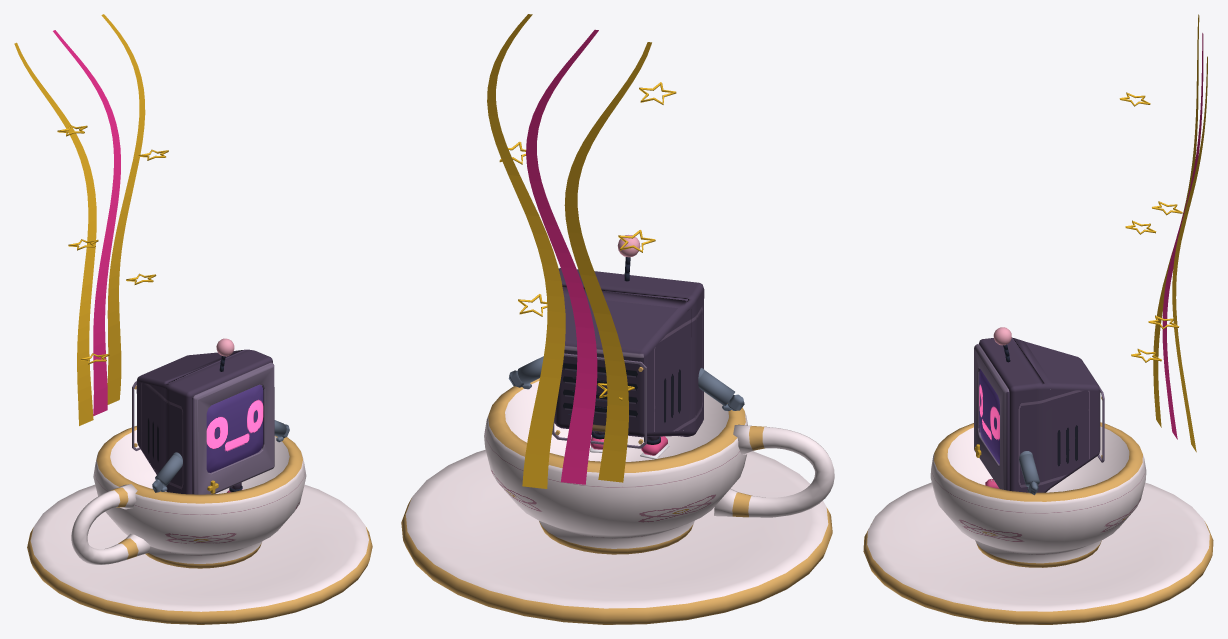
Rendered from prime.trail.podium.glb.
3 renders of one model, left to right at view 1: azimuth 30°, elevation 25°; view 2: azimuth 150°, elevation 25°; view 3: azimuth 270°, elevation 25°, orthographic. The views are drawn at different scales.
Visible parts, largest first — view 1: emi_teacup_mesh, podium_ribbon_2, podium_ribbon_1, podium_ribbon_0; view 2: emi_teacup_mesh, podium_ribbon_0, podium_ribbon_1, podium_ribbon_2; view 3: emi_teacup_mesh, podium_ribbon_0, podium_ribbon_1, podium_ribbon_2.
Part boxes in pixels (x1,y1,x2,y2): emi_teacup_mesh: (27, 338, 372, 624); podium_ribbon_2: (14, 42, 96, 425); podium_ribbon_1: (53, 30, 120, 415); podium_ribbon_0: (101, 14, 145, 404); emi_teacup_mesh: (401, 235, 834, 624); podium_ribbon_0: (487, 14, 565, 488); podium_ribbon_1: (526, 29, 598, 484); podium_ribbon_2: (564, 42, 651, 482); emi_teacup_mesh: (863, 327, 1213, 624); podium_ribbon_0: (1172, 56, 1207, 452); podium_ribbon_1: (1162, 33, 1203, 439); podium_ribbon_2: (1153, 14, 1199, 427).
Bounding box in the file's own units: 0.3698 × 0.585 × 0.3687.
Materials: 4 (2 with a texture image).
